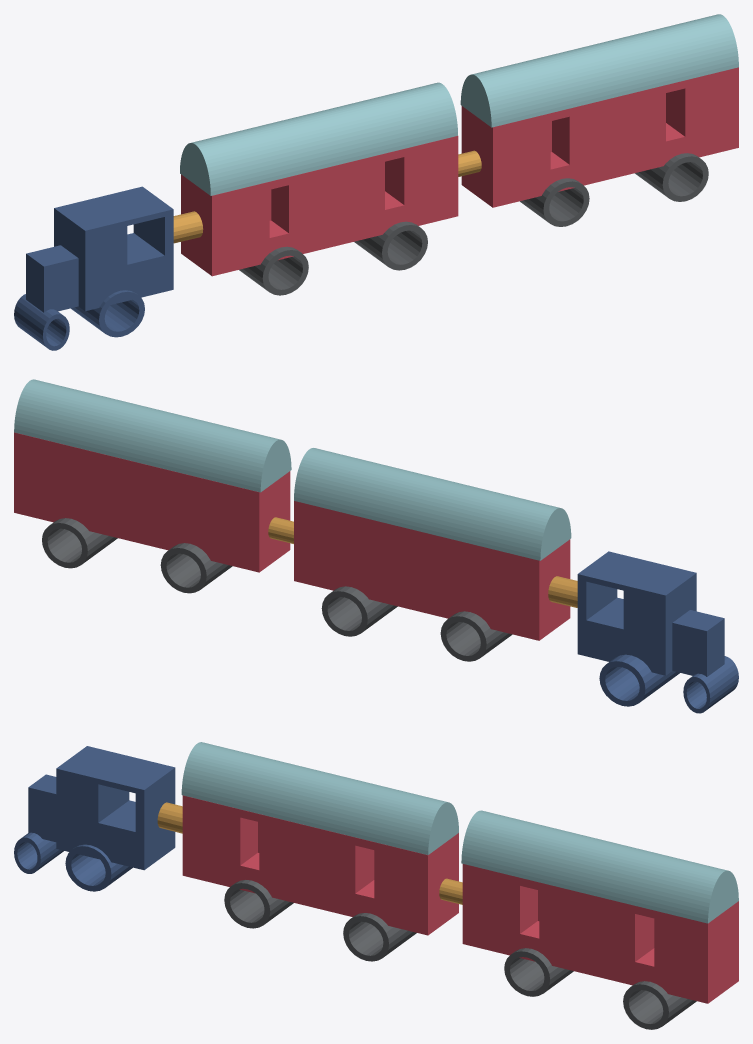
Rendered from Tremendous Duup.glb.
3 views of the same model, one above another, from view 1: azimuth 30°, elevation 25°; view 2: azimuth 150°, elevation 25°; view 3: azimuth 330°, elevation 25° (orthographic).
Visible parts, largest first — view 1: Mesh_Mesh_head_geo.001_lambert2SG.001; view 2: Mesh_Mesh_head_geo.001_lambert2SG.001; view 3: Mesh_Mesh_head_geo.001_lambert2SG.001.
Boxes of the visible parts, x1,y1,x2,y2 form: Mesh_Mesh_head_geo.001_lambert2SG.001: (14, 14, 738, 350); Mesh_Mesh_head_geo.001_lambert2SG.001: (14, 379, 738, 713); Mesh_Mesh_head_geo.001_lambert2SG.001: (14, 742, 738, 1029).
Bounding box in the file's own units: 181 × 39 × 20.
